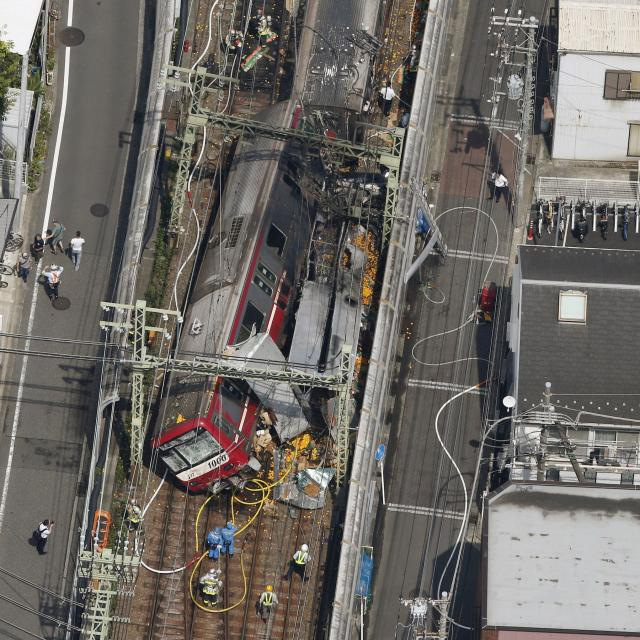traffic_incident: (156, 85, 374, 488)
